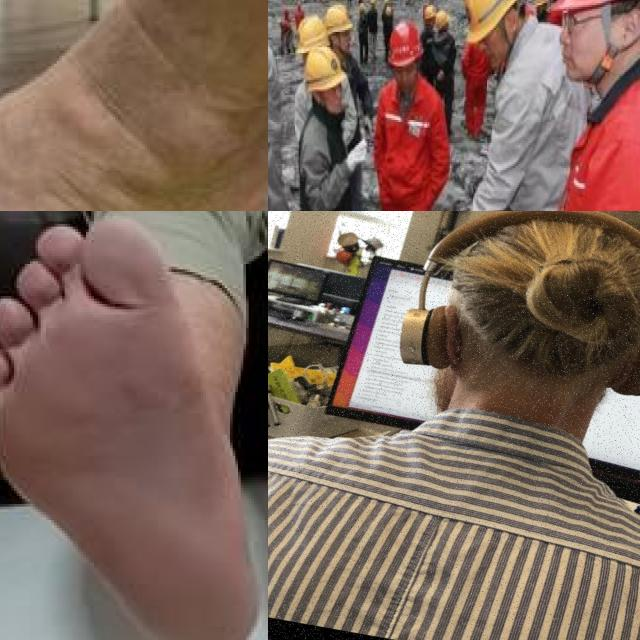Barefoots: (0, 211, 268, 640), (0, 68, 268, 211)
Ear-protection: (383, 211, 640, 434)
No_Ear-Protection: (612, 11, 640, 54), (500, 7, 522, 43)
No_Glasses: (562, 13, 603, 28)
face_nomask: (560, 16, 606, 82), (479, 26, 510, 72)
hand_glove: (345, 140, 366, 173)
head_helmet: (465, 0, 521, 43), (305, 46, 345, 92), (388, 20, 423, 67), (296, 14, 329, 55), (325, 5, 353, 36), (422, 0, 436, 21), (435, 11, 449, 30)
